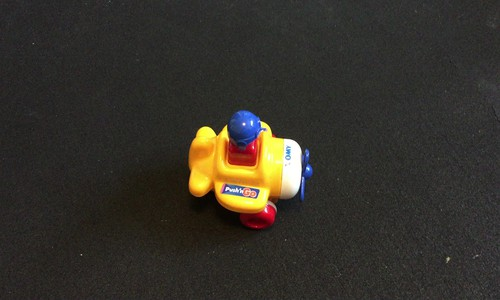toy: (185, 110, 315, 239)
